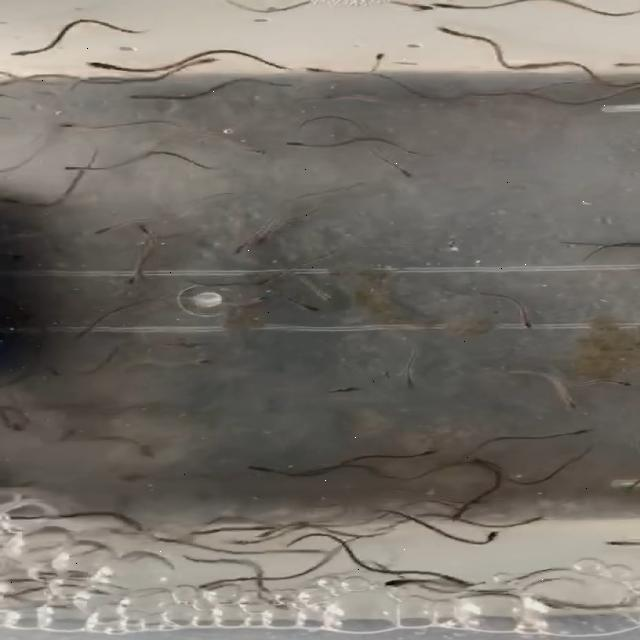active_glass_eel: (228, 132, 270, 160), (42, 112, 98, 132), (247, 592, 297, 614), (558, 419, 602, 441), (250, 523, 292, 544), (304, 282, 343, 304), (376, 159, 416, 180), (86, 55, 126, 75), (442, 497, 492, 513), (422, 0, 475, 15), (403, 444, 451, 460), (170, 54, 216, 70), (122, 90, 166, 106), (558, 394, 590, 415), (327, 379, 366, 396), (279, 134, 315, 152), (382, 576, 428, 590), (440, 570, 472, 590), (400, 368, 426, 392), (507, 308, 538, 328), (603, 372, 634, 392), (296, 66, 340, 80), (54, 158, 92, 174), (602, 534, 640, 550), (224, 533, 262, 549), (113, 266, 143, 286), (83, 221, 125, 235), (606, 55, 640, 72), (222, 239, 256, 256), (186, 355, 222, 371), (466, 530, 506, 544), (446, 507, 474, 527), (396, 0, 438, 13), (292, 296, 326, 312), (242, 290, 276, 306), (0, 190, 38, 204), (130, 223, 160, 240), (116, 514, 144, 532), (434, 22, 465, 38), (7, 44, 42, 58), (360, 51, 392, 66), (240, 464, 271, 479)
